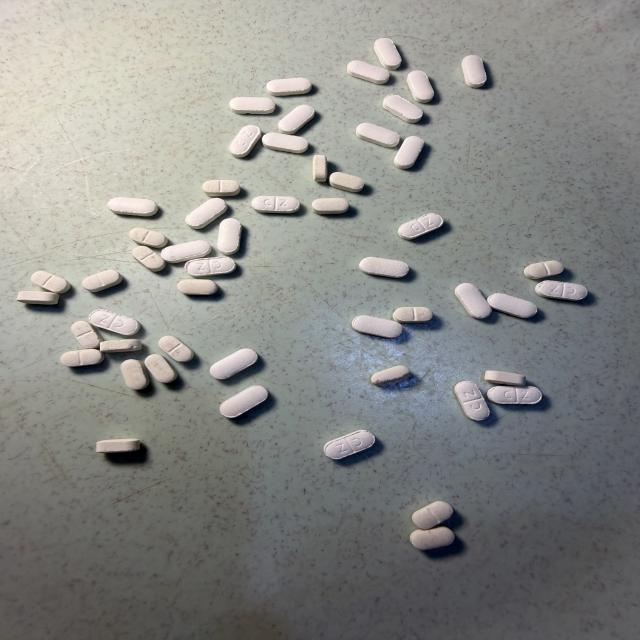pill: (220, 386, 268, 418), (324, 430, 375, 459), (210, 349, 257, 379), (455, 283, 492, 319), (455, 381, 489, 420), (185, 198, 227, 229), (89, 310, 140, 335), (487, 293, 537, 318), (398, 213, 443, 239), (352, 315, 402, 338), (412, 501, 453, 529), (162, 240, 211, 263), (383, 95, 423, 123), (359, 257, 409, 278), (278, 105, 314, 134), (356, 123, 399, 147), (229, 125, 261, 157), (410, 527, 454, 550), (487, 386, 542, 404), (394, 136, 424, 169), (185, 257, 236, 276), (536, 281, 587, 300), (262, 132, 308, 153), (347, 61, 389, 84), (108, 197, 158, 216), (145, 354, 177, 383), (159, 336, 194, 362), (31, 271, 70, 294), (82, 270, 122, 292), (217, 219, 242, 254), (407, 71, 434, 103), (121, 360, 149, 390), (374, 38, 401, 69), (132, 246, 165, 271), (71, 321, 101, 348), (266, 78, 311, 96), (371, 366, 411, 386), (252, 196, 299, 213), (462, 55, 486, 87), (230, 97, 275, 114), (129, 228, 167, 248), (61, 349, 104, 366), (524, 261, 563, 279), (329, 172, 364, 192), (393, 307, 432, 323), (485, 371, 526, 386), (177, 280, 217, 295), (203, 180, 240, 196), (312, 198, 348, 214), (96, 439, 140, 452), (17, 291, 59, 304), (100, 339, 141, 352), (313, 155, 327, 181)
